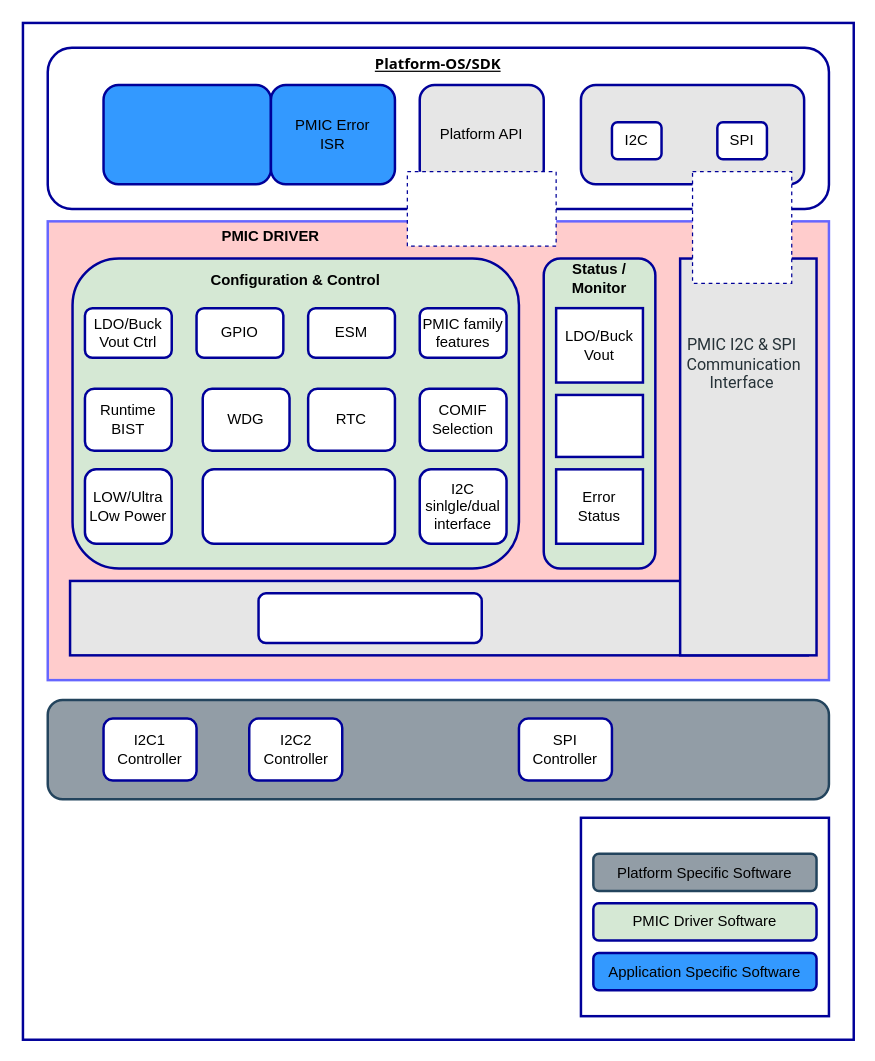
This 875x1061 diagram has some shape labels left out. Each missing label, with the box of its shape:
Application: (102, 83, 272, 185)
Critical Section/ Locks API Hook: (406, 170, 556, 246)
I2C & SPI Send / receive API: (257, 591, 482, 644)
LEGEND :: (579, 816, 830, 1017)
Peripheral LLD: (579, 83, 805, 185)
SOC/MCU HW: (46, 698, 830, 800)
Thermal / Voltage / Power-good / Current Monitor: (201, 467, 396, 544)
Transport Layer API hook: (691, 170, 792, 283)
WDG Signalling: (554, 393, 644, 458)
